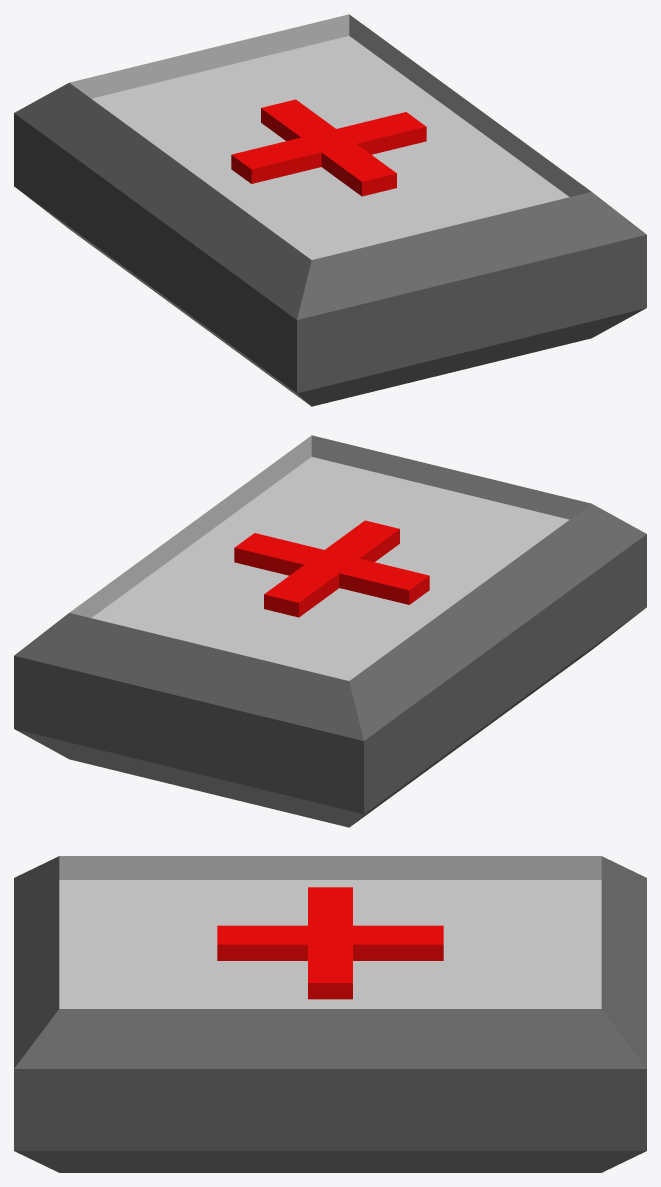
File: HealthPack.fbx
3 renders of one model, top to bottom at view 1: azimuth 30°, elevation 25°; view 2: azimuth 150°, elevation 25°; view 3: azimuth 270°, elevation 25°, orthographic. The views are drawn at different scales.
Visible parts, largest first — view 1: HealthPack; view 2: HealthPack; view 3: HealthPack.
Part boxes in pixels (bbox=[...]): HealthPack: bbox=[14, 14, 646, 406]; HealthPack: bbox=[14, 435, 646, 827]; HealthPack: bbox=[14, 856, 646, 1172].
Size of the model in its own units: 18.48 by 7.39 by 25.87.
Materials: 1 (1 with a texture image).
